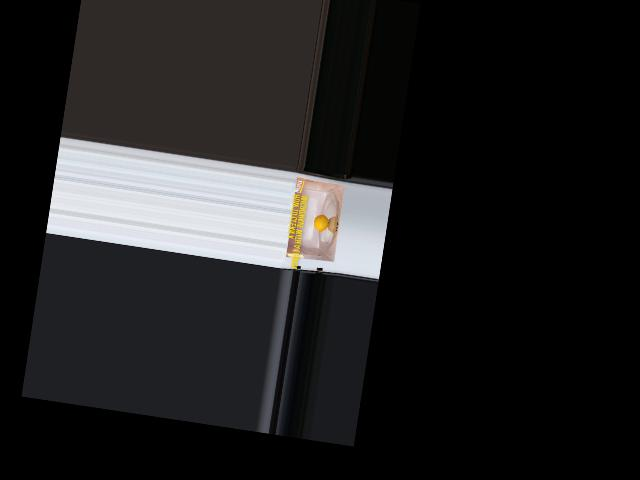lemon: (309, 212, 332, 240)
